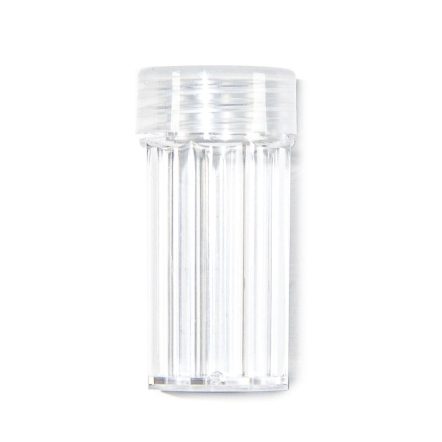medicinejar: (133, 63, 304, 392)
